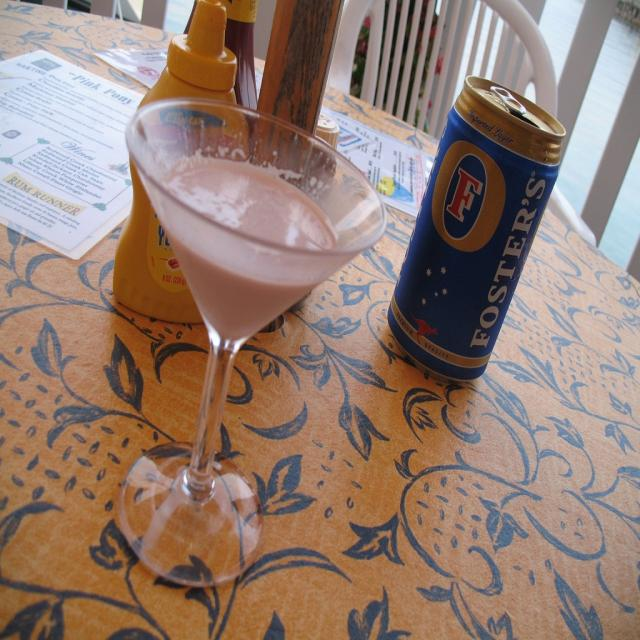fosters: (431, 140, 510, 255)
